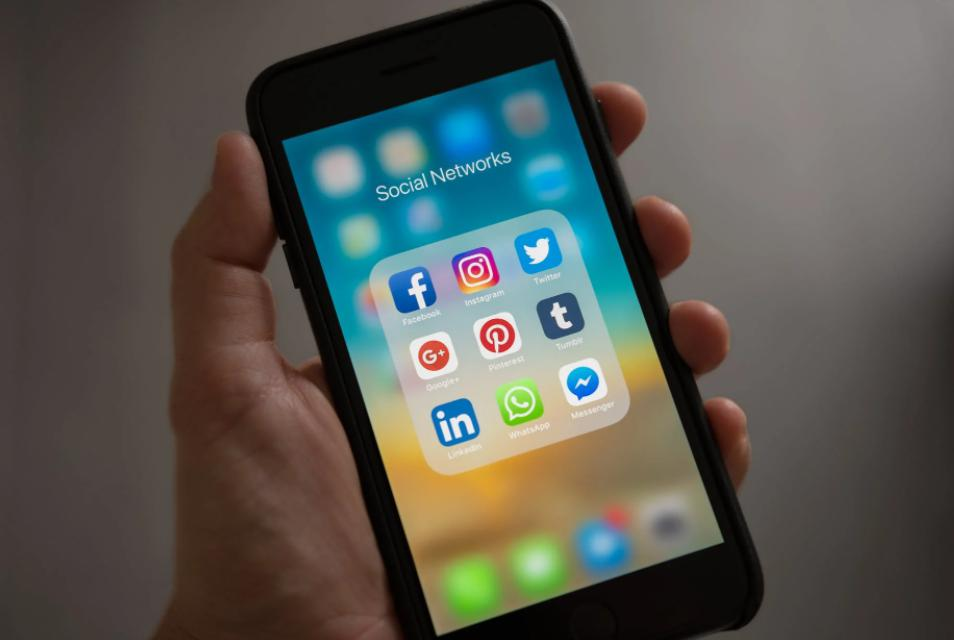mobile: (246, 1, 765, 640)
